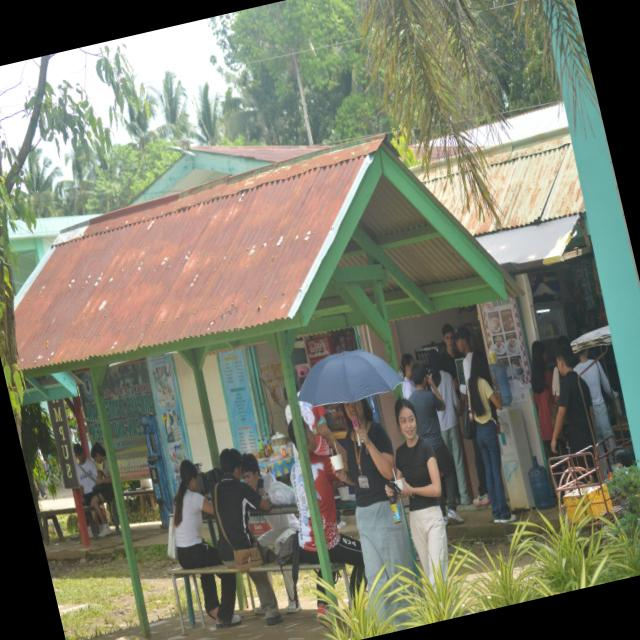person: (333, 400, 412, 594), (300, 421, 365, 593), (394, 399, 447, 588), (409, 362, 462, 525), (465, 351, 515, 523), (213, 449, 270, 567), (427, 350, 470, 505), (173, 460, 221, 569), (551, 347, 594, 454), (574, 349, 617, 454), (530, 341, 553, 459), (439, 324, 466, 416), (90, 443, 113, 536), (257, 514, 298, 562), (73, 444, 97, 505), (400, 354, 414, 399)
